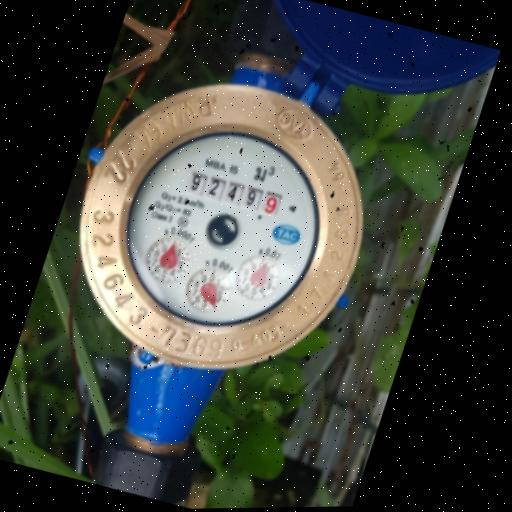2: (206, 177, 225, 199)
4: (224, 180, 245, 205)
9: (188, 171, 207, 196), (261, 193, 280, 216), (244, 187, 262, 210)
border_water_meter_number: (179, 164, 290, 224)
